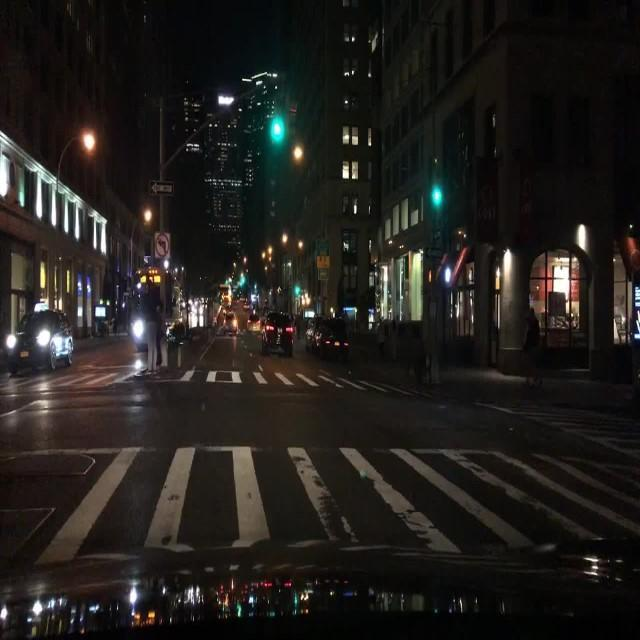normal: (11, 311, 77, 374), (313, 318, 354, 360)
